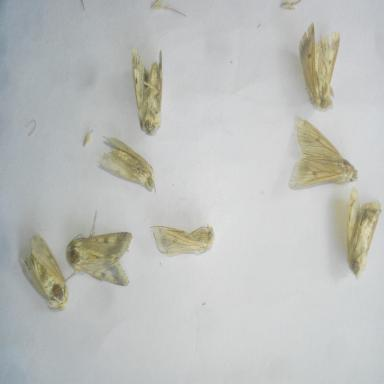abw: (288, 113, 360, 192), (64, 209, 134, 290), (16, 230, 70, 316), (296, 20, 344, 113), (95, 133, 158, 195), (129, 45, 166, 140), (344, 190, 382, 281), (148, 218, 218, 262)
